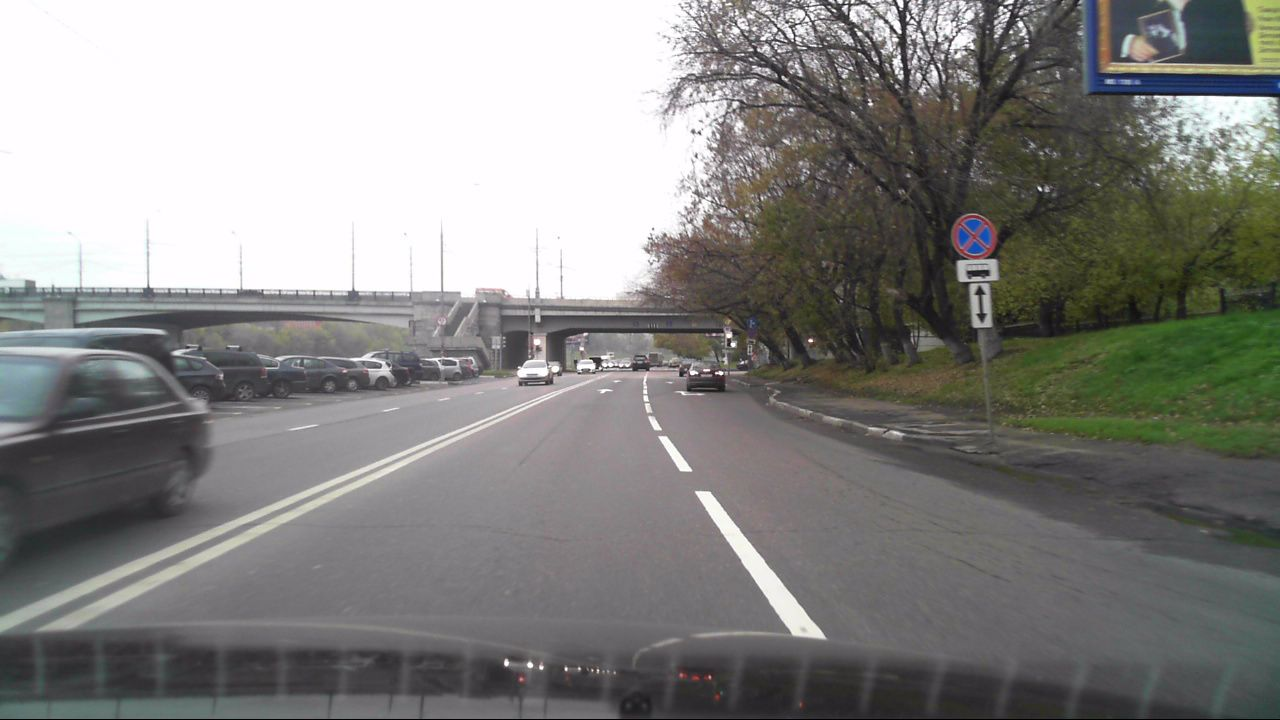No Parking: (951, 213, 998, 258)
